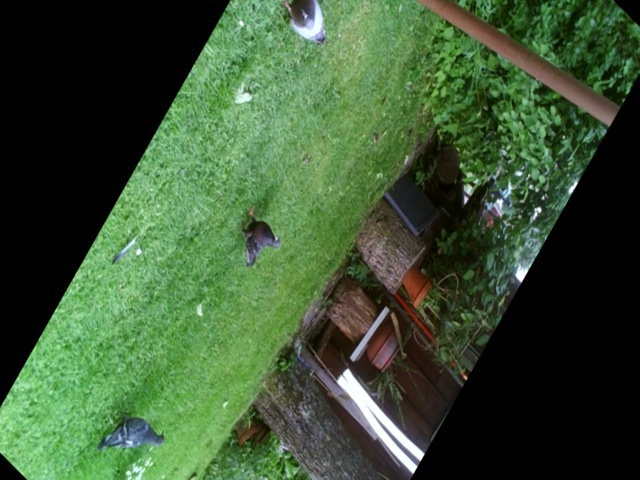Pigeon: (90, 408, 170, 455), (235, 203, 284, 274), (285, 1, 331, 48)
